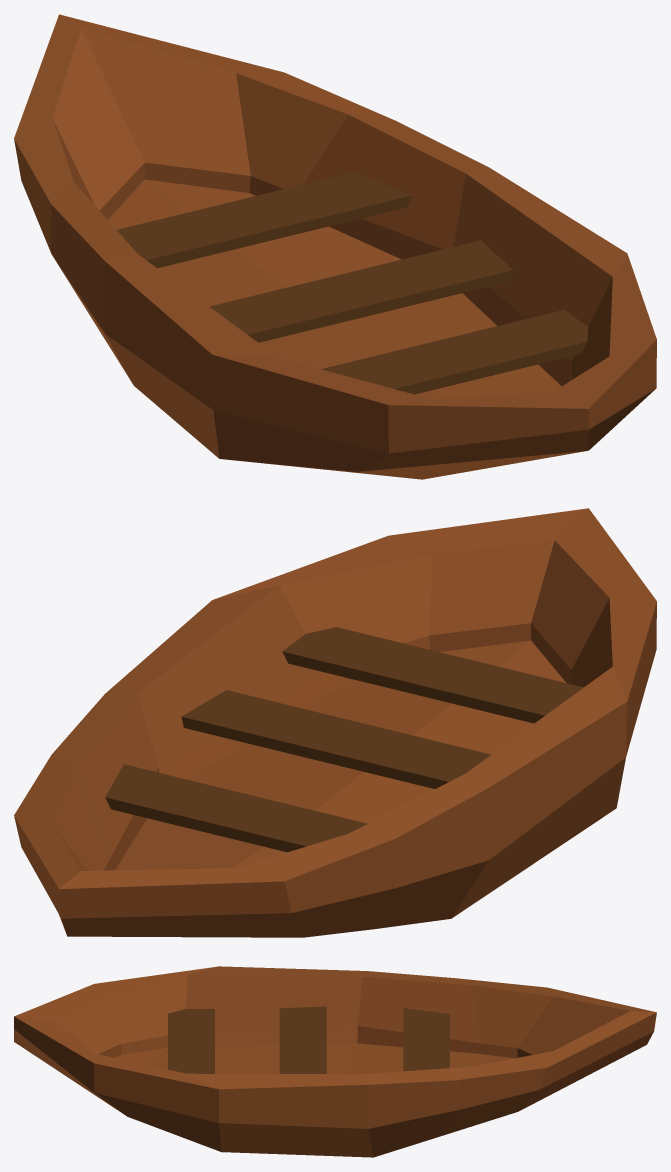
Rendered from newboat.glb.
The picture shows the model from 3 angles, top to bottom: view 1: azimuth 30°, elevation 25°; view 2: azimuth 150°, elevation 25°; view 3: azimuth 270°, elevation 25°; orthographic projection. The views are drawn at different scales.
Parts seen in each view (by area): view 1: Cube, Cube.001, Cube.002, Cube.003; view 2: Cube, Cube.001, Cube.003, Cube.002; view 3: Cube, Cube.001, Cube.003, Cube.002.
Boxes of the visible parts, bbox=[...] form: Cube: bbox=[14, 14, 656, 479]; Cube.001: bbox=[209, 240, 513, 342]; Cube.002: bbox=[117, 172, 411, 268]; Cube.003: bbox=[321, 310, 588, 394]; Cube: bbox=[14, 508, 656, 937]; Cube.001: bbox=[181, 690, 490, 788]; Cube.003: bbox=[282, 627, 583, 723]; Cube.002: bbox=[105, 764, 367, 852]; Cube: bbox=[14, 966, 656, 1157]; Cube.001: bbox=[279, 1006, 326, 1073]; Cube.003: bbox=[168, 1009, 214, 1073]; Cube.002: bbox=[403, 1008, 449, 1071].
Bounding box in the file's own units: 12.49 × 5.97 × 27.6.
